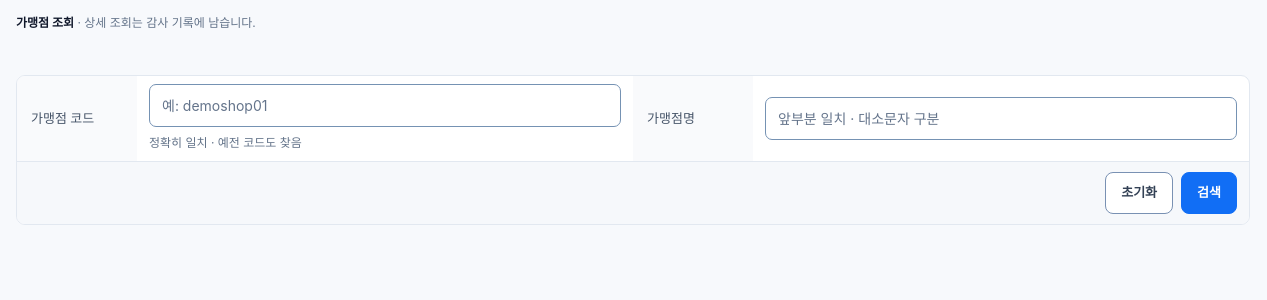
MERCHANT-IA-001 B6 — 가맹점 목록 필터 묶음 › 초기화는 서버 오류 안내도 지운다; 검색 중 초기화하면 진행 중 응답을 버린다(검색 버튼은 막힘)
Click the button "검색": point(1209, 193) [1181,172,1237,214]
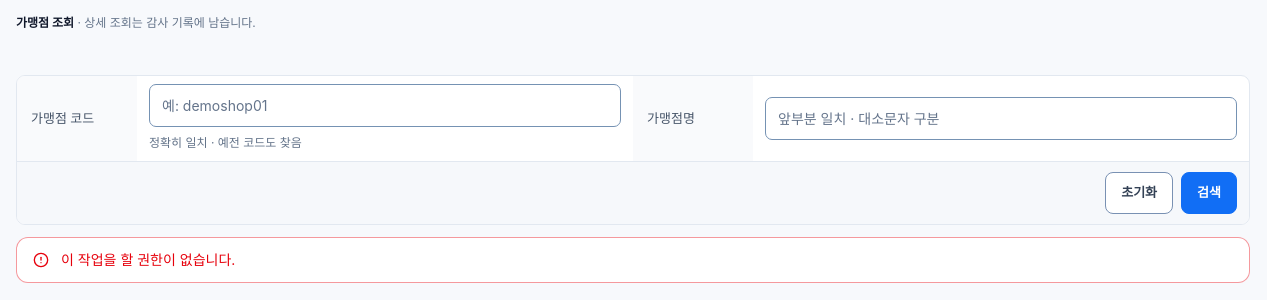
Check: the message "이 작업을 할 권한이 없습니다." is shown, box [16,237,1250,283]
Click the button "초기화": point(1139, 193) [1105,172,1173,214]
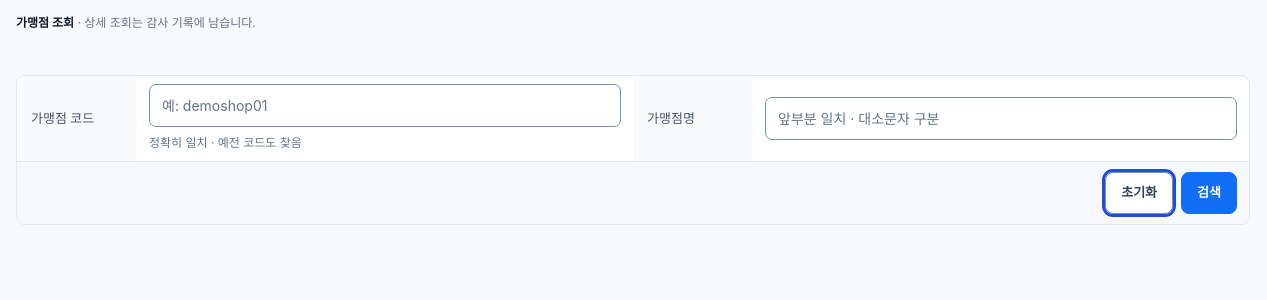
Check: the message "이 작업을 할 권한이 없습니다." is gone
In the field labelled "가맹점명": point(1001, 118) [765,97,1237,140], type "데모"
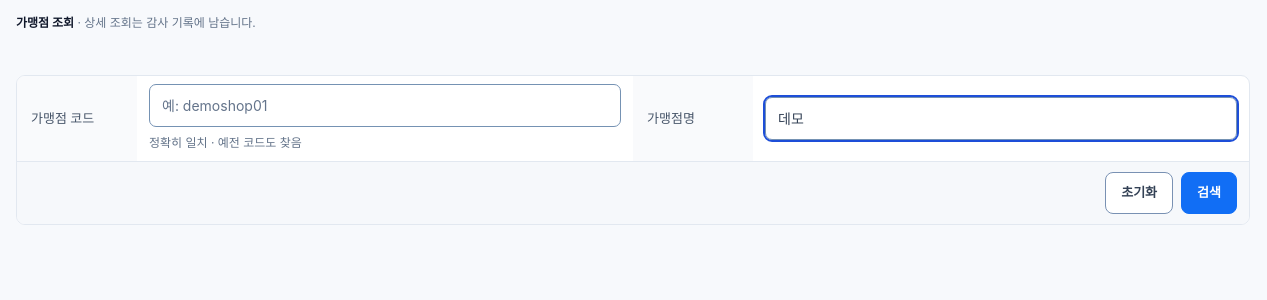
Click the button "검색": point(1209, 193) [1181,172,1237,214]
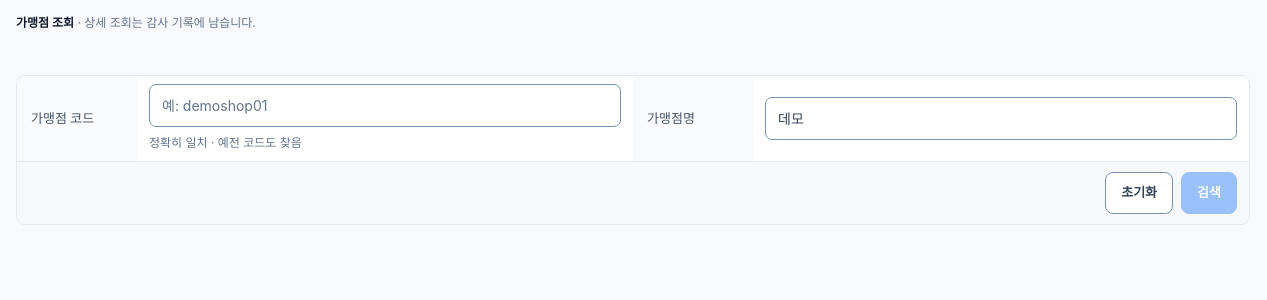
Check: the button "검색" is disabled, box [1181,172,1237,214]
Click the button "초기화": point(1139, 193) [1105,172,1173,214]
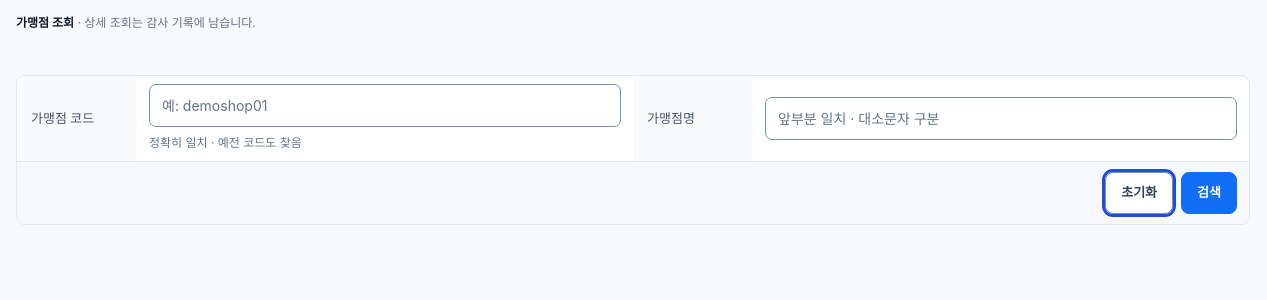
Check: the button "검색" is enabled, box [1181,172,1237,214]
Check: the field labelled "가맹점명" is empty, box [765,97,1237,140]
